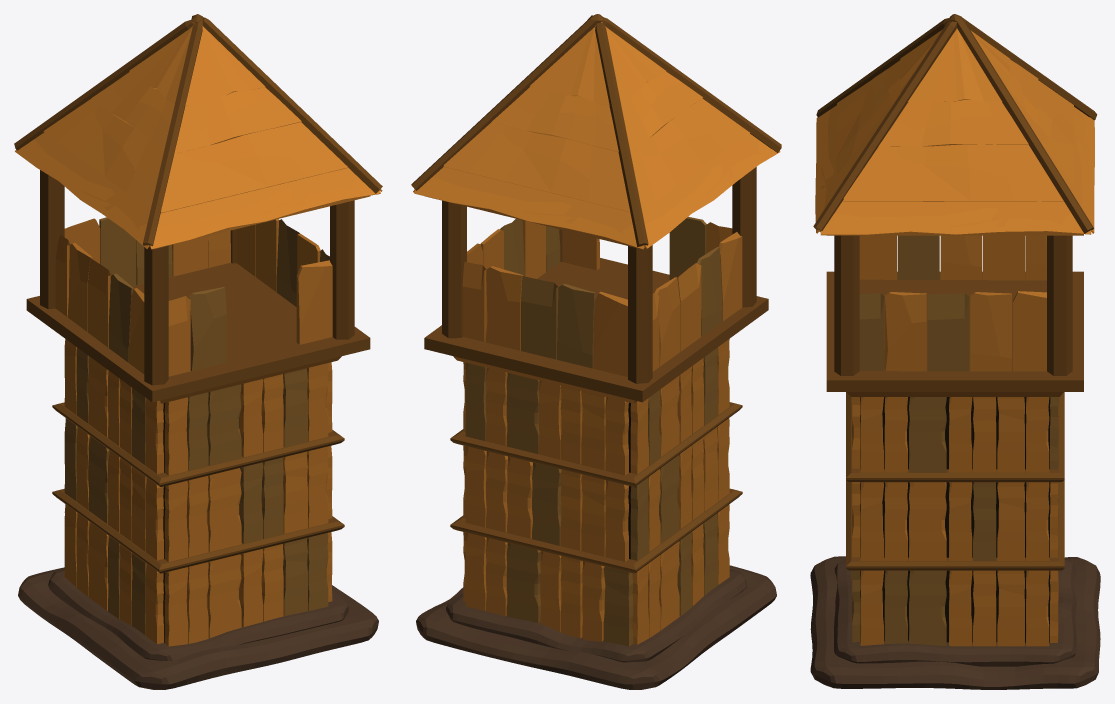
File: Wood_Tower_3_Color_1.fbx
The picture shows the model from 3 angles, left to right: view 1: azimuth 30°, elevation 25°; view 2: azimuth 150°, elevation 25°; view 3: azimuth 270°, elevation 25°; orthographic projection. The views are drawn at different scales.
Parts seen in each view (by area): view 1: Cube.552, Cube.461, Cube.582, Cube.583, Cube.578, Cube.462, Cube.579, Cube.581, Cylinder.350, Cylinder.351, Cube.577, Cube.550 (+66 smaller); view 2: Cube.461, Cube.552, Cube.574, Cube.575, Cube.578, Cube.462, Cube.579, Cube.566, Cylinder.348, Cube.577, Cube.493, Cube.550 (+66 smaller); view 3: Cube.461, Cube.586, Cube.552, Cube.587, Cube.462, Cube.585, Cylinder.349, Cylinder.351, Cube.463, Cube.584, Cube.550, Cube.561 (+51 smaller).
Boxes of the visible parts, x1=… form: Cube.552: x1=26, y1=262, x2=370, y2=402; Cube.461: x1=18, y1=567, x2=378, y2=689; Cube.582: x1=160, y1=92, x2=348, y2=213; Cube.583: x1=150, y1=168, x2=380, y2=249; Cube.578: x1=43, y1=91, x2=163, y2=210; Cube.462: x1=48, y1=569, x2=348, y2=660; Cube.579: x1=15, y1=132, x2=150, y2=248; Cube.581: x1=174, y1=23, x2=301, y2=153; Cylinder.350: x1=144, y1=245, x2=168, y2=385; Cylinder.351: x1=330, y1=200, x2=354, y2=339; Cube.577: x1=91, y1=72, x2=174, y2=150; Cube.550: x1=52, y1=402, x2=344, y2=486; Cube.461: x1=416, y1=565, x2=776, y2=689; Cube.552: x1=424, y1=258, x2=768, y2=402; Cube.574: x1=443, y1=96, x2=630, y2=211; Cube.575: x1=414, y1=167, x2=644, y2=249; Cube.578: x1=630, y1=82, x2=749, y2=211; Cube.462: x1=446, y1=569, x2=746, y2=662; Cube.579: x1=642, y1=133, x2=780, y2=248; Cube.566: x1=491, y1=86, x2=618, y2=151; Cylinder.348: x1=628, y1=245, x2=652, y2=383; Cube.577: x1=595, y1=25, x2=702, y2=151; Cube.493: x1=450, y1=488, x2=742, y2=573; Cube.550: x1=450, y1=402, x2=742, y2=486; Cube.461: x1=810, y1=556, x2=1100, y2=689; Cube.586: x1=843, y1=99, x2=1063, y2=201; Cube.552: x1=826, y1=271, x2=1083, y2=391; Cube.587: x1=820, y1=200, x2=1091, y2=235; Cube.462: x1=834, y1=559, x2=1076, y2=666; Cube.585: x1=879, y1=100, x2=1028, y2=146; Cylinder.349: x1=1047, y1=235, x2=1072, y2=375; Cylinder.351: x1=834, y1=235, x2=859, y2=375; Cube.463: x1=860, y1=397, x2=1050, y2=642; Cube.584: x1=908, y1=28, x2=1002, y2=102; Cube.550: x1=846, y1=392, x2=1064, y2=482; Cube.561: x1=927, y1=293, x2=969, y2=371.
Size of the model in its own units: 516 by 1209 by 515.
